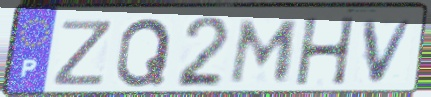2: (176, 15, 232, 90)
H: (294, 15, 359, 88)
M: (226, 18, 303, 86)
Q: (113, 16, 175, 90)
V: (361, 17, 419, 85)
Z: (50, 18, 117, 88)
